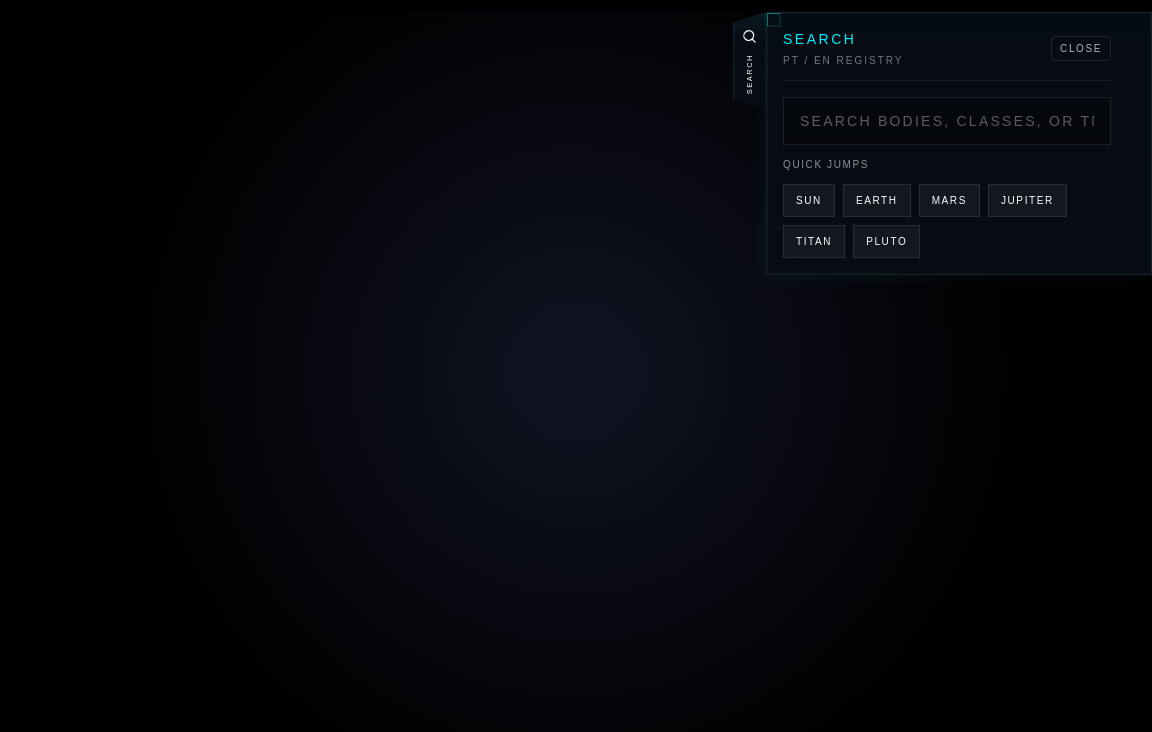
Test: SearchBar / HYG matches (M6-C) › renders a 'Stars (HYG)' section with Sirius when the query matches
Type "Sirius" into the dropdown at (947, 121), box x1=783 y1=97 x2=1111 y2=145
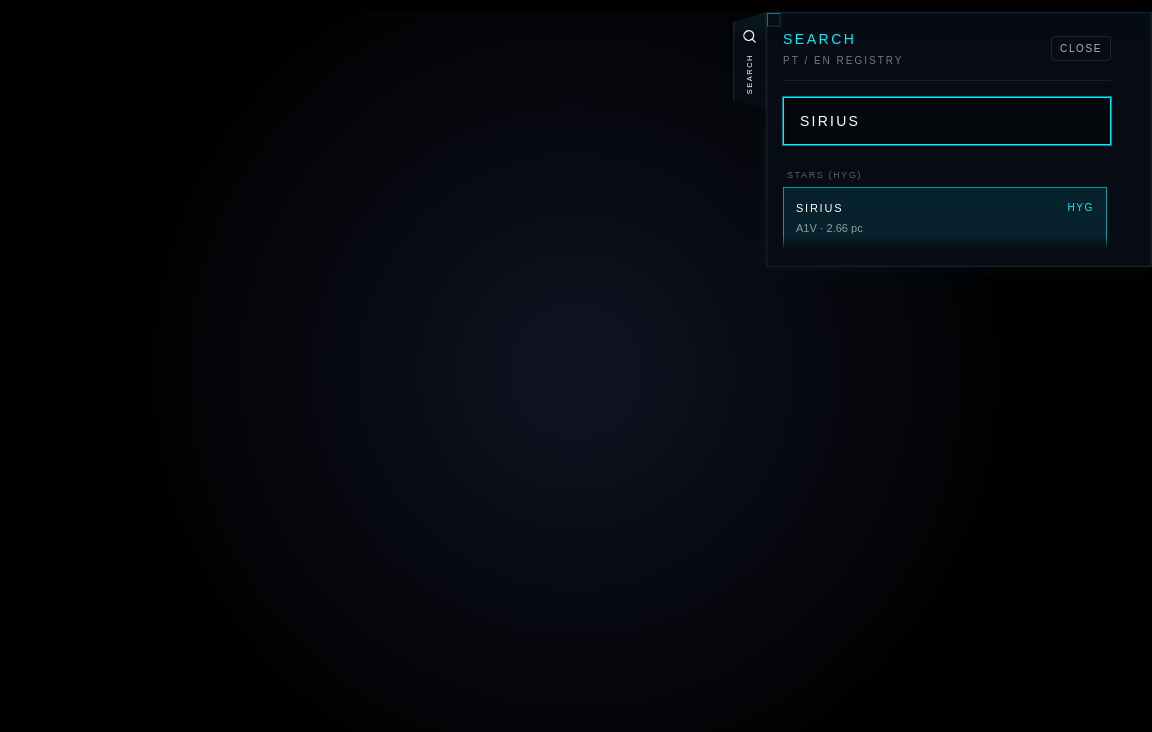
Result: the text "Stars (HYG)" is shown at x1=787 y1=170 x2=862 y2=180
